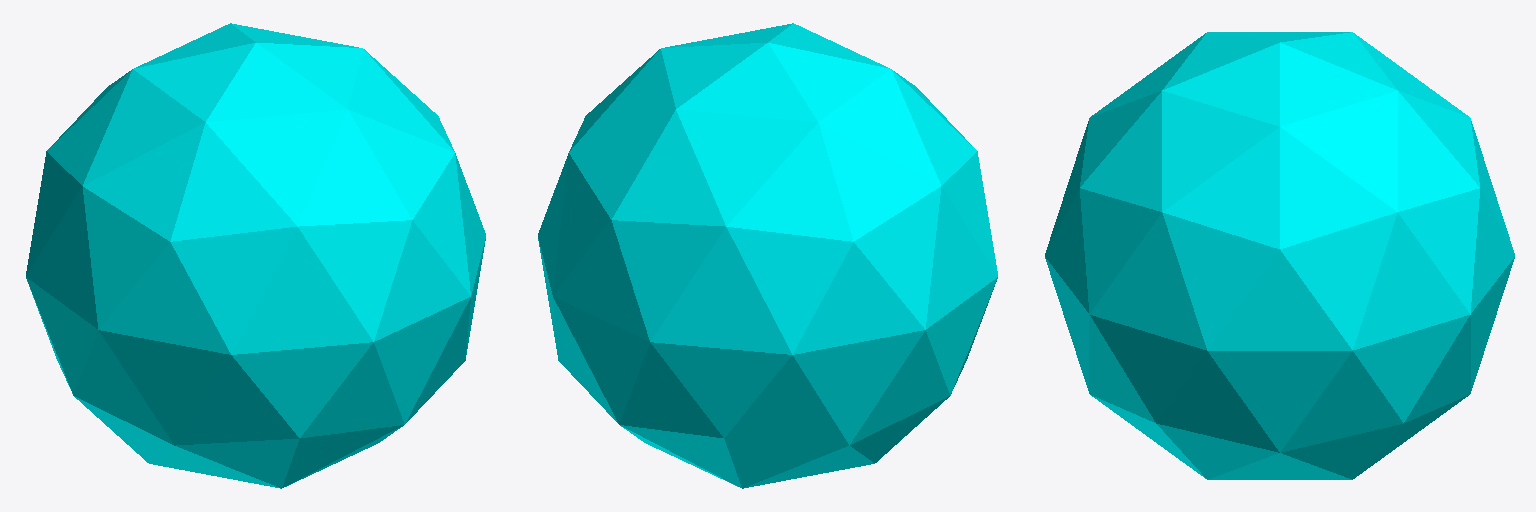
The picture shows the model from 3 angles: view 1: azimuth 30°, elevation 25°; view 2: azimuth 150°, elevation 25°; view 3: azimuth 270°, elevation 25°; orthographic projection.
Bounding box in the file's own units: 4.64 × 4.87 × 4.87.
Materials: 1 (1 with a texture image).